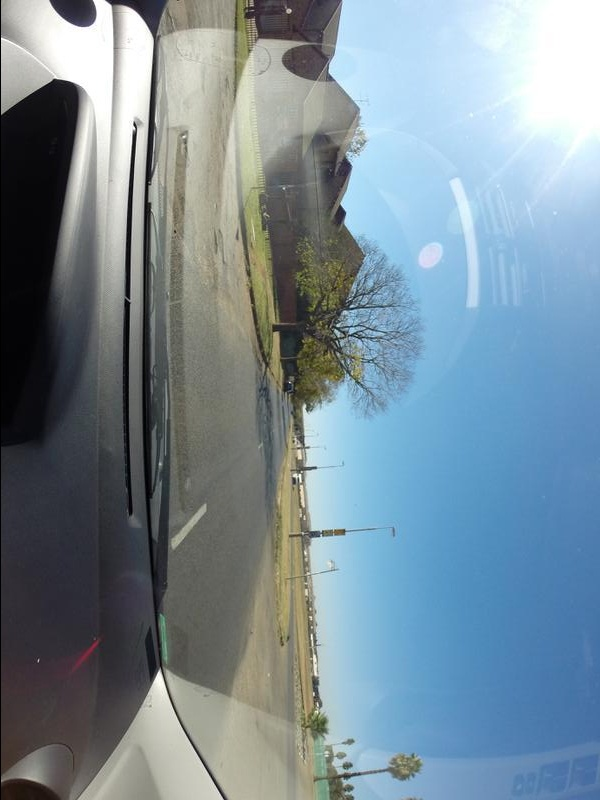pothole: (224, 74, 232, 103), (220, 235, 225, 272), (211, 232, 216, 260)
